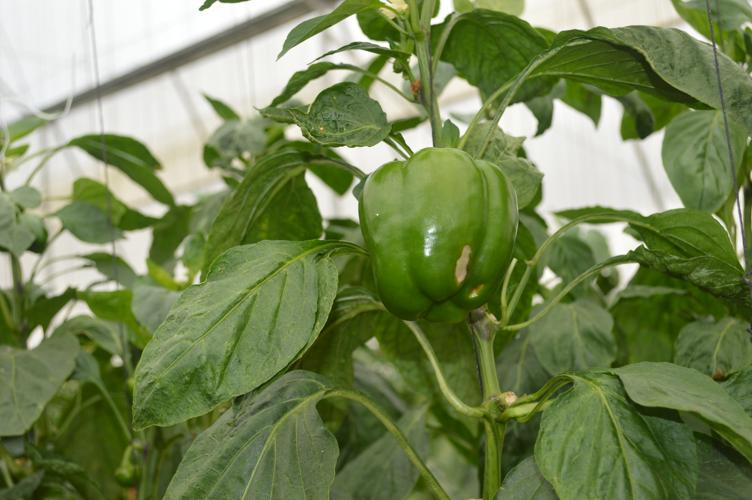BellPepper: (352, 144, 528, 331)
